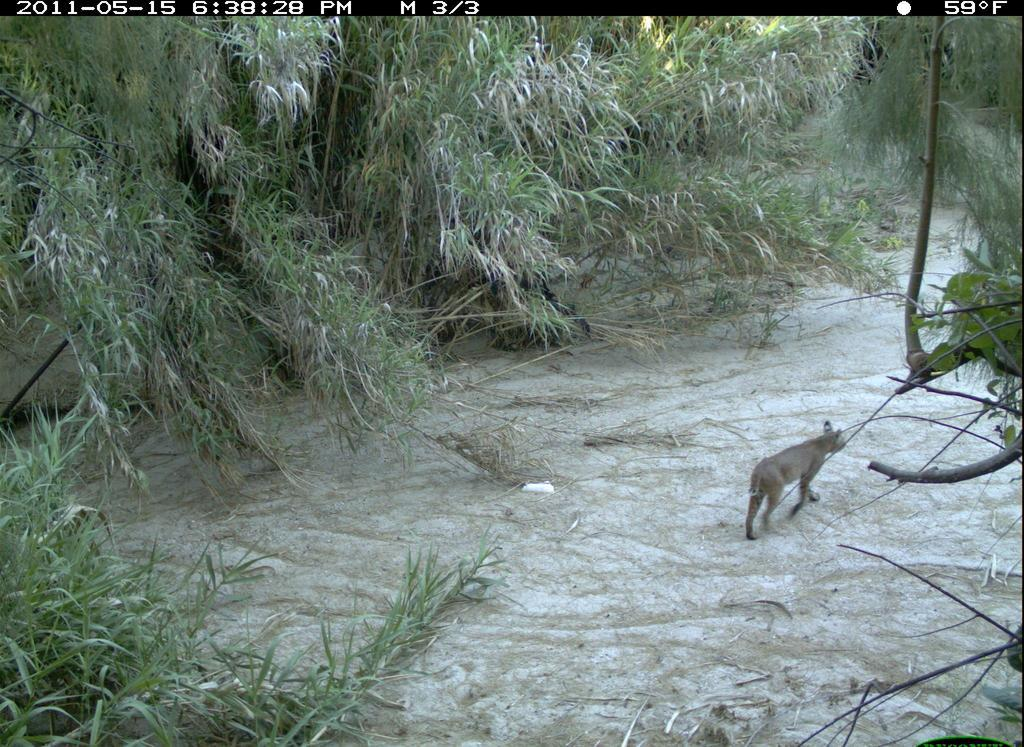bobcat: (733, 415, 856, 551)
